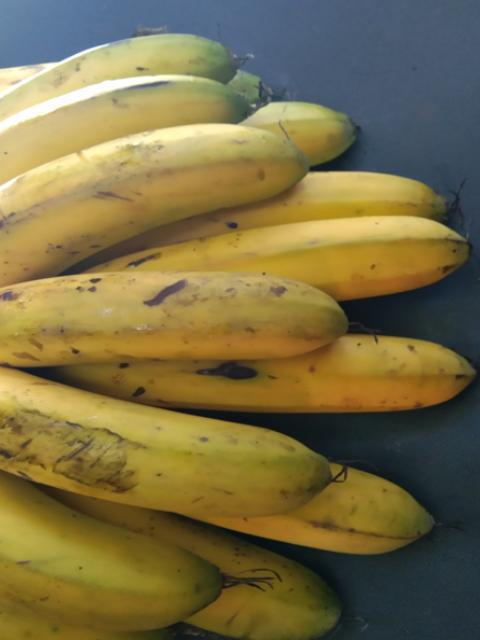ripe: (3, 126, 311, 297), (18, 365, 333, 508), (0, 266, 352, 388), (17, 45, 282, 199), (0, 456, 211, 637), (268, 331, 470, 427), (290, 212, 469, 302), (296, 469, 436, 577)
